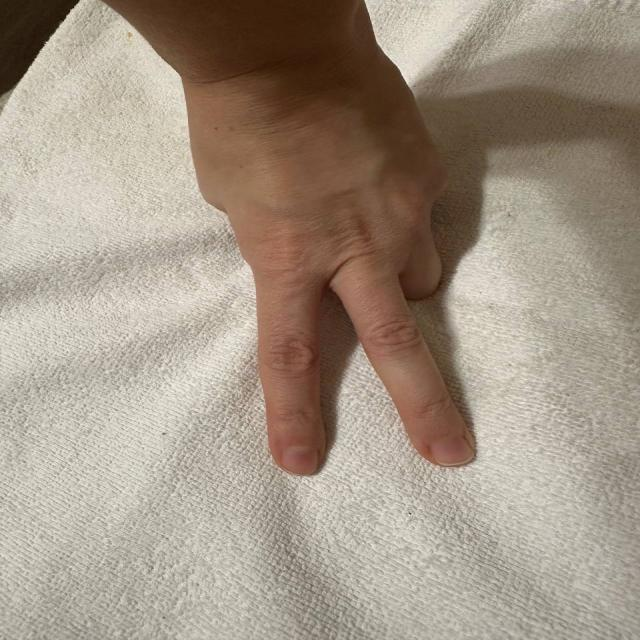l: (142, 62, 489, 493)
